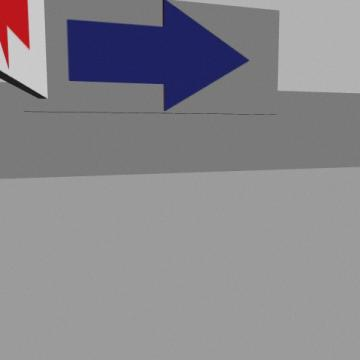blue_right: (66, 0, 248, 110)
